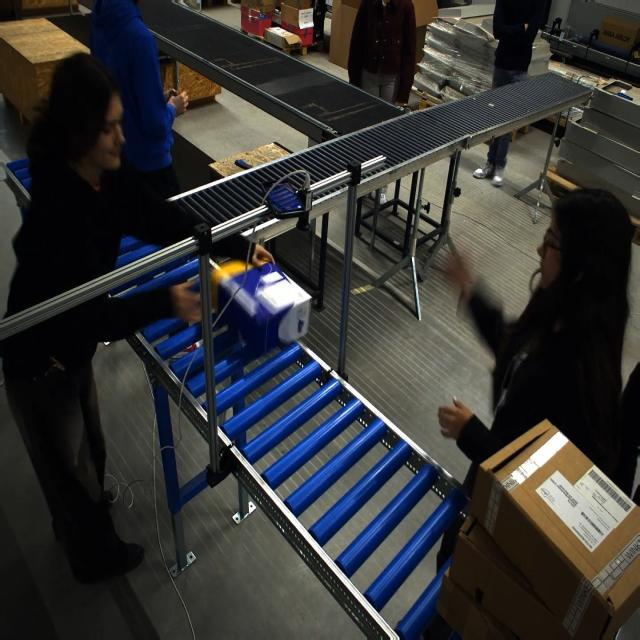box: (200, 256, 308, 354)
